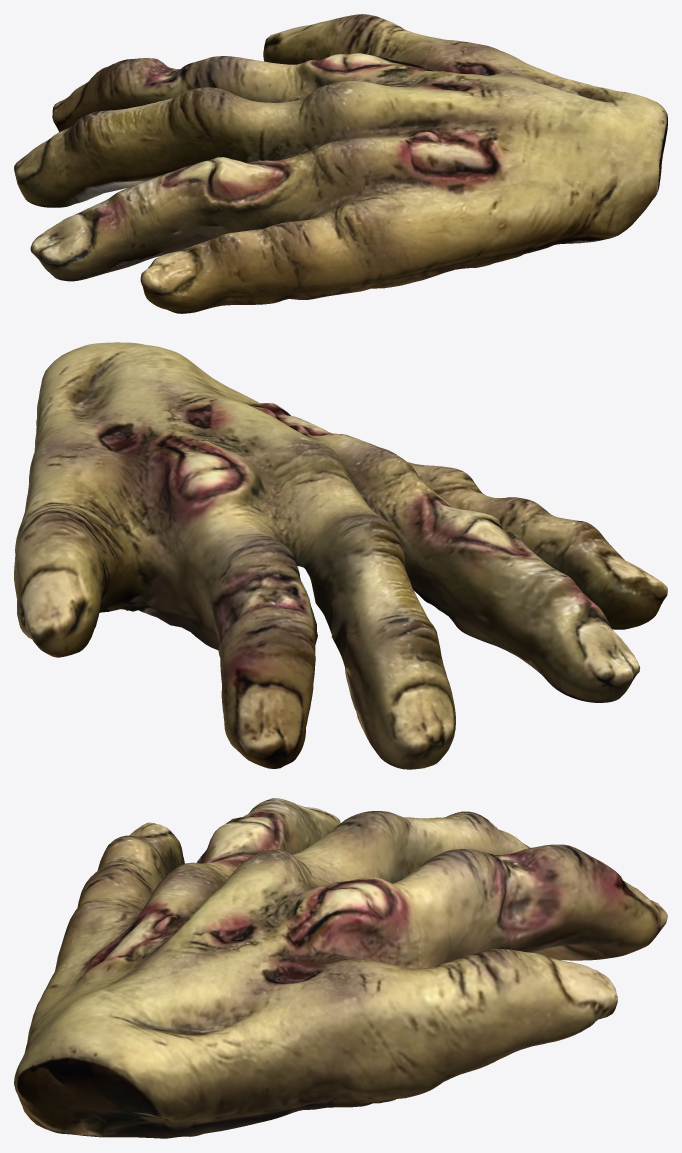
File: zombie_hand.glb
3 renders of one model, top to bottom at view 1: azimuth 30°, elevation 25°; view 2: azimuth 150°, elevation 25°; view 3: azimuth 270°, elevation 25°, orthographic. The views are drawn at different scales.
Visible parts, largest first — view 1: model_2; view 2: model_2; view 3: model_2.
Boxes of the visible parts, box(x1,y1,x2,y2) form: model_2: box(14, 14, 667, 313); model_2: box(14, 342, 667, 769); model_2: box(14, 798, 667, 1138).
Size of the model in its own units: 2 by 0.4803 by 1.65.
Materials: 1 (1 with a texture image).
